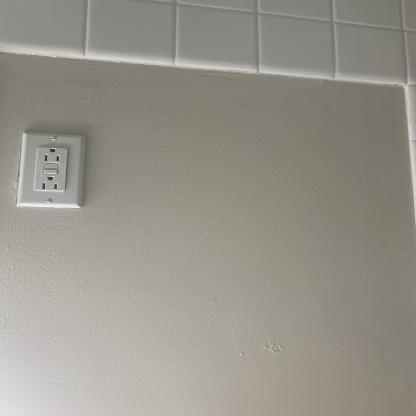OUTLET: (17, 134, 86, 208)
